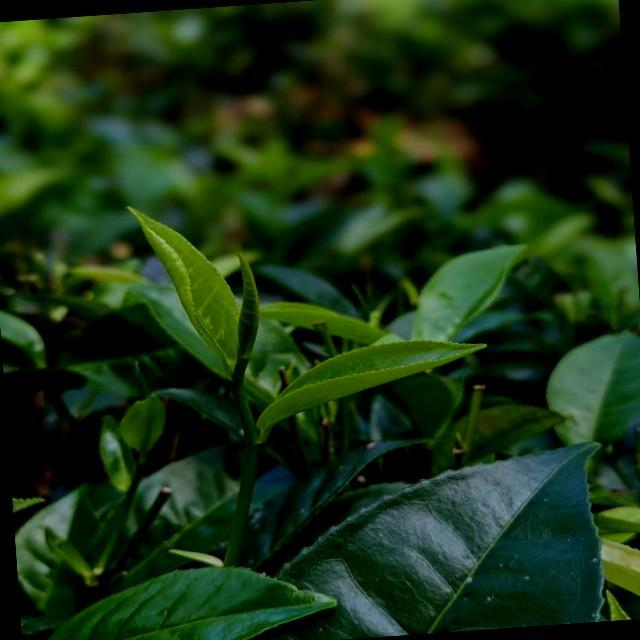Stem: (234, 378, 243, 391)
